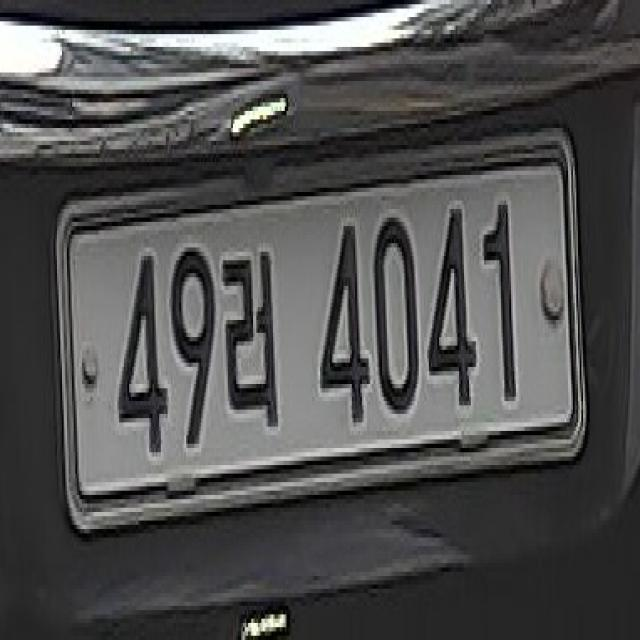0: (373, 214, 419, 428)
1: (476, 196, 525, 412)
4: (111, 240, 169, 484), (314, 215, 372, 450), (424, 190, 478, 438)
9: (170, 240, 216, 476)
leo: (218, 246, 290, 448)
license_plate: (43, 112, 595, 570)
